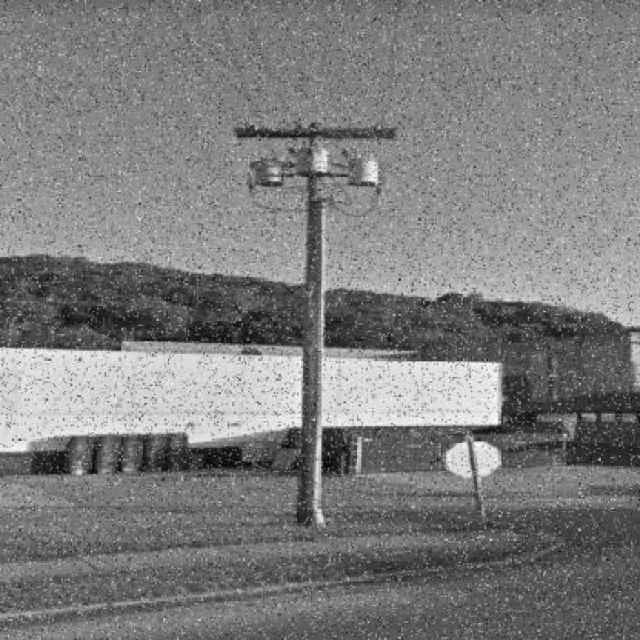crossarm: (237, 127, 399, 138)
pole: (295, 141, 327, 531)
